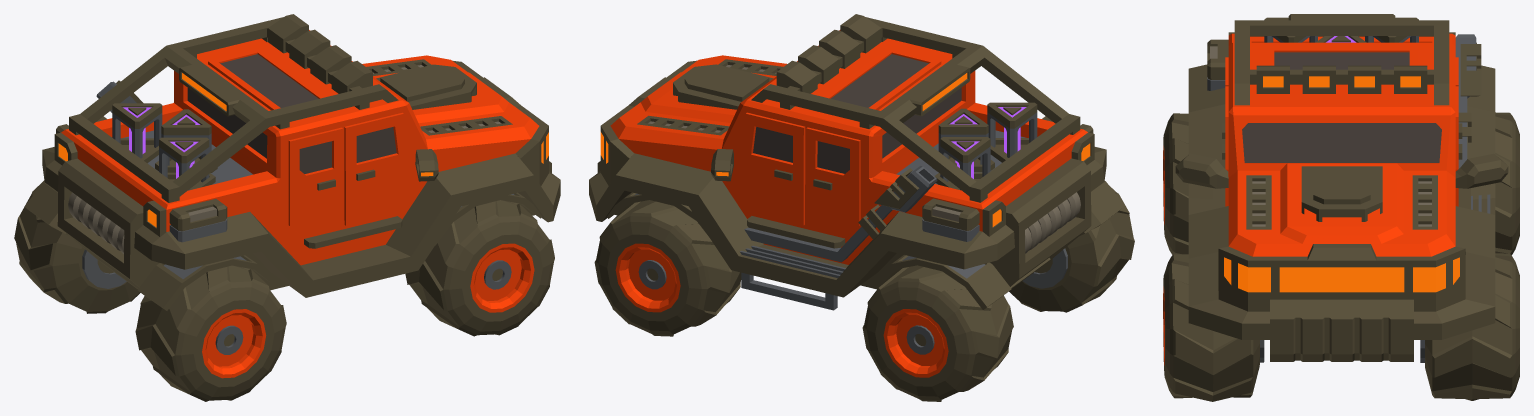
File: totoya.glb
3 renders of one model, left to right at view 1: azimuth 30°, elevation 25°; view 2: azimuth 150°, elevation 25°; view 3: azimuth 270°, elevation 25°, orthographic. The views are drawn at different scales.
Parts seen in each view (by area): view 1: chasis, wheel.BR, wheel.FR, wheel.BL; view 2: chasis, wheel.BL, wheel.FL, wheel.BR; view 3: chasis, wheel.FR, wheel.FL, wheel.BR, wheel.BL.
Boxes of the visible parts, bbox=[...] form: chasis: bbox=[24, 14, 560, 310]; wheel.BR: bbox=[135, 265, 286, 401]; wheel.FR: bbox=[405, 200, 554, 336]; wheel.BL: bbox=[14, 180, 140, 313]; chasis: bbox=[589, 14, 1124, 310]; wheel.BL: bbox=[862, 265, 1013, 401]; wheel.FL: bbox=[594, 200, 741, 336]; wheel.BR: bbox=[1009, 186, 1134, 312]; chasis: bbox=[1175, 14, 1508, 362]; wheel.FR: bbox=[1163, 254, 1259, 401]; wheel.FL: bbox=[1425, 253, 1519, 400]; wheel.BR: bbox=[1163, 113, 1188, 254]; wheel.BL: bbox=[1495, 112, 1519, 255].
Size of the model in its own units: 3.02 by 1.75 by 2.02.
5 materials, 1 textured.
